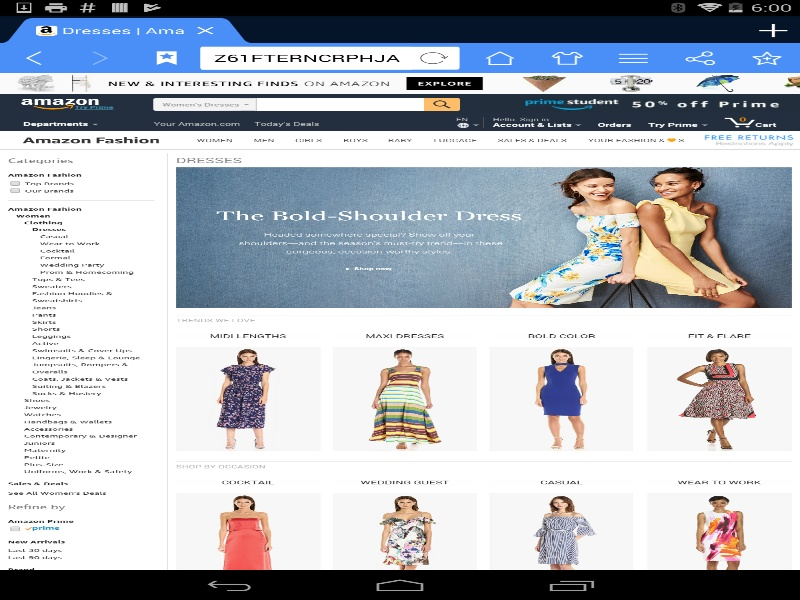Button: (154, 98, 334, 111), (424, 97, 459, 110)
Input: (256, 97, 424, 109)
